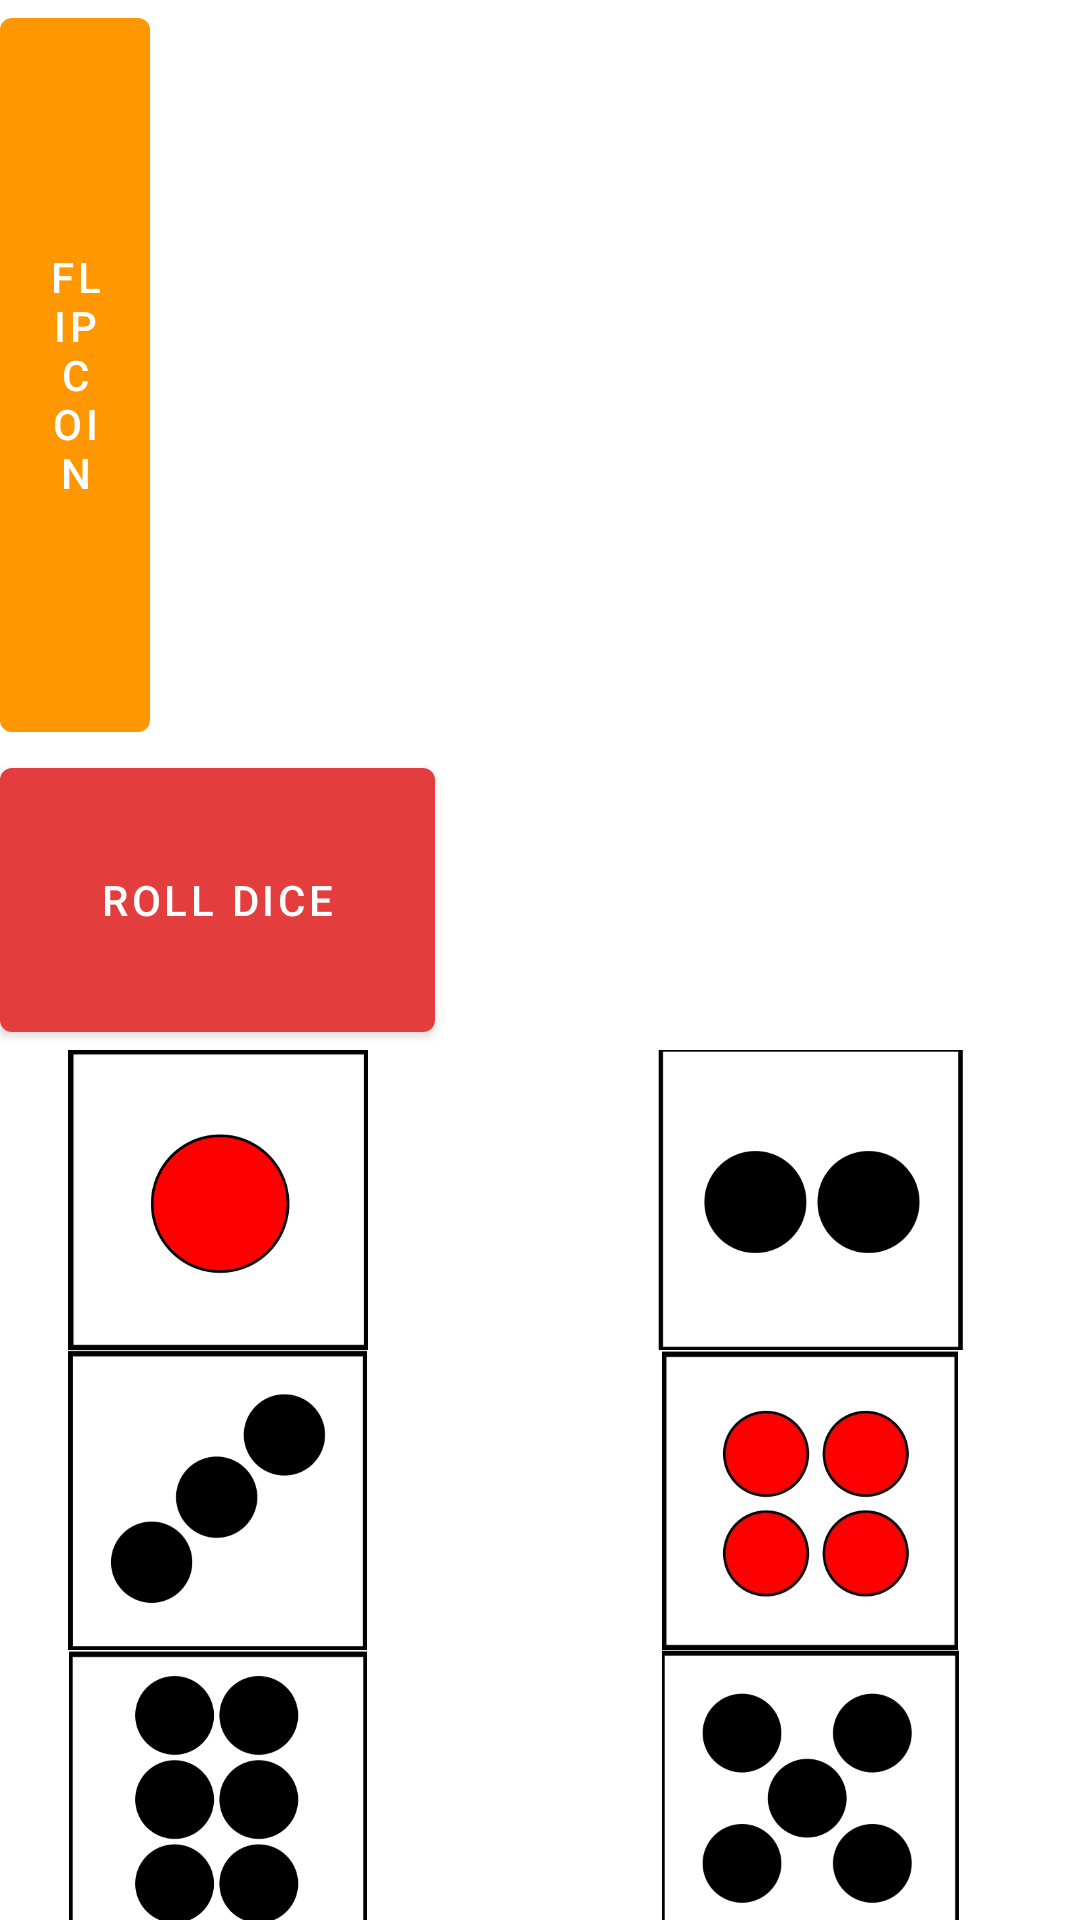

Named icons in this screenshot (1080*1920) and their centers, point (x, y):
six: point (218, 1785)
